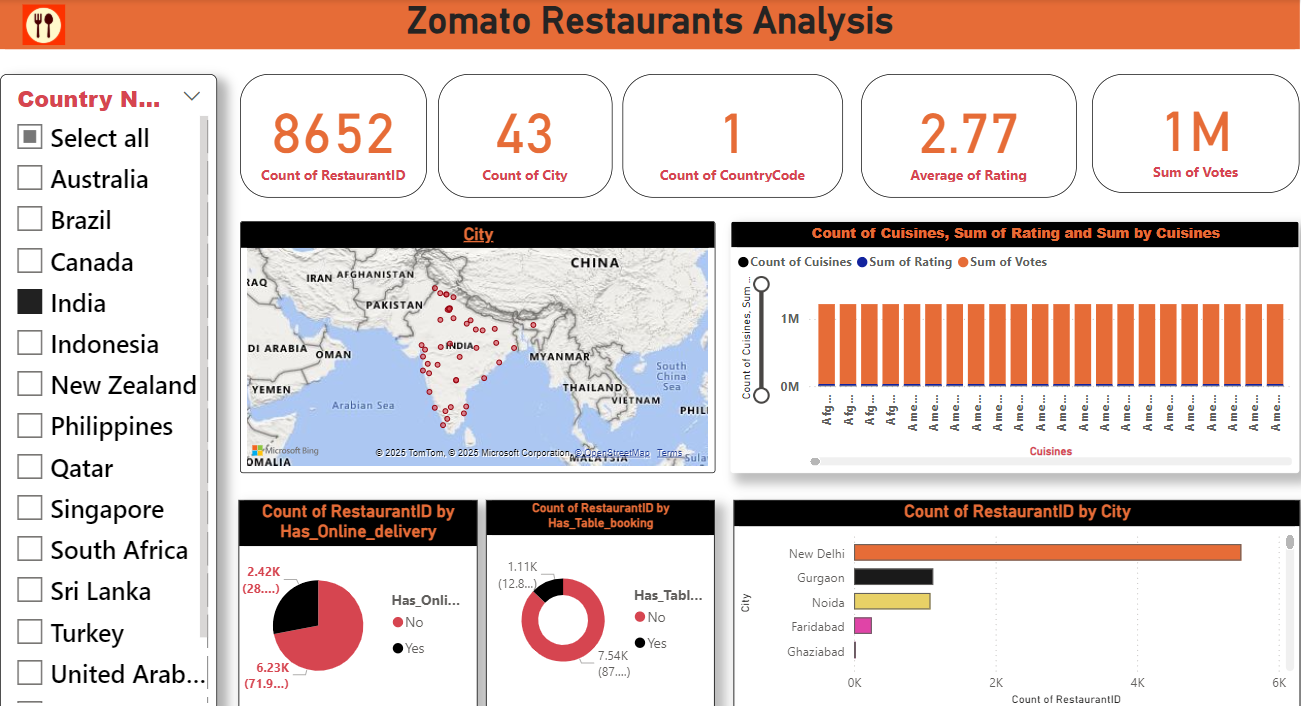

What the dashboard file says about the page in this screenshot:
{"tool":"powerbi","page":{"name":"zomato","canvas":[1280,720],"ordinal":0},"visuals":[{"type":"card","fields":{"Values":["CountNonNull(Sheet1.RestaurantID)"]},"box":[232.3,72.3,181.5,120],"z":0},{"type":"card","fields":{"Values":["Count(Sheet1.City)"]},"box":[424.6,72.3,169.2,120],"z":1000},{"type":"card","fields":{"Values":["Count(Sheet1.CountryCode)"]},"box":[604.6,72.3,213.8,120],"z":2000},{"type":"card","fields":{"Values":["Avg(Sheet1.Rating)"]},"box":[835.4,72.3,209.2,120],"z":3000},{"type":"card","fields":{"Values":["Sum(Sheet1.Votes)"]},"box":[1060,72.3,201.5,115.4],"z":4000},{"type":"slicer","fields":{"Values":["Sheet2.country name"]},"box":[0,72.7,210.5,619.3],"z":5000},{"type":"lineStackedColumnComboChart","title":"Count of Cuisines, Sum of Rating and Sum by Cuisines","fields":{"Y":["CountNonNull(Table2.Cuisines)","Sum(Table2.Rating)","Sum(Table2.Votes)"],"Category":["Sheet1.Cuisines"]},"box":[709.2,215.4,552.3,244.6],"z":6000},{"type":"clusteredBarChart","fields":{"Category":["Sheet1.City"],"Y":["CountNonNull(Sheet1.RestaurantID)"]},"box":[711.7,486.7,550,205],"z":7000},{"type":"map","fields":{"Category":["Sheet1.City"]},"box":[232.3,215.4,461.5,244.6],"z":8000},{"type":"pieChart","fields":{"Category":["Table2.Has_Online_delivery"],"Y":["CountNonNull(Table2.RestaurantID)"]},"box":[231.7,486.7,231.7,205],"z":9000},{"type":"donutChart","fields":{"Category":["Table2.Has_Table_booking"],"Y":["CountNonNull(Table2.RestaurantID)"]},"box":[471.7,486.7,221.7,205],"z":10000},{"type":"textbox","title":"Zomato Restaurants Analysis","box":[0,0,1261.5,49.2],"z":11000},{"type":"image","box":[15.1,0,56,50],"z":12000}]}

Visuals, with their boxes on the page's 1280x720 design canvas (x1, y1, x2, y2). These are canvas units, not pixel positions in the 1301x706 screenshot, which may show the page scaled, cropped or inside an application window:
card - CountNonNull(Sheet1.RestaurantID): box(232, 72, 414, 192)
card - Count(Sheet1.City): box(425, 72, 594, 192)
card - Count(Sheet1.CountryCode): box(605, 72, 818, 192)
card - Avg(Sheet1.Rating): box(835, 72, 1045, 192)
card - Sum(Sheet1.Votes): box(1060, 72, 1262, 188)
slicer - Sheet2.country name: box(0, 73, 210, 692)
"Count of Cuisines, Sum of Rating and Sum by Cuisines" lineStackedColumnComboChart: box(709, 215, 1262, 460)
clusteredBarChart - Sheet1.City x CountNonNull(Sheet1.RestaurantID): box(712, 487, 1262, 692)
map - Sheet1.City: box(232, 215, 694, 460)
pieChart - Table2.Has_Online_delivery x CountNonNull(Table2.RestaurantID): box(232, 487, 463, 692)
donutChart - Table2.Has_Table_booking x CountNonNull(Table2.RestaurantID): box(472, 487, 693, 692)
"Zomato Restaurants Analysis" textbox: box(0, 0, 1262, 49)
image: box(15, 0, 71, 50)
